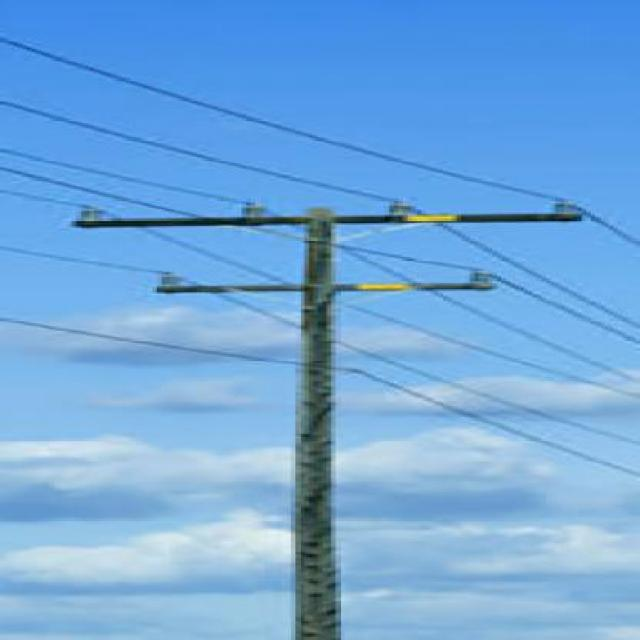pole: (60, 186, 602, 640)
